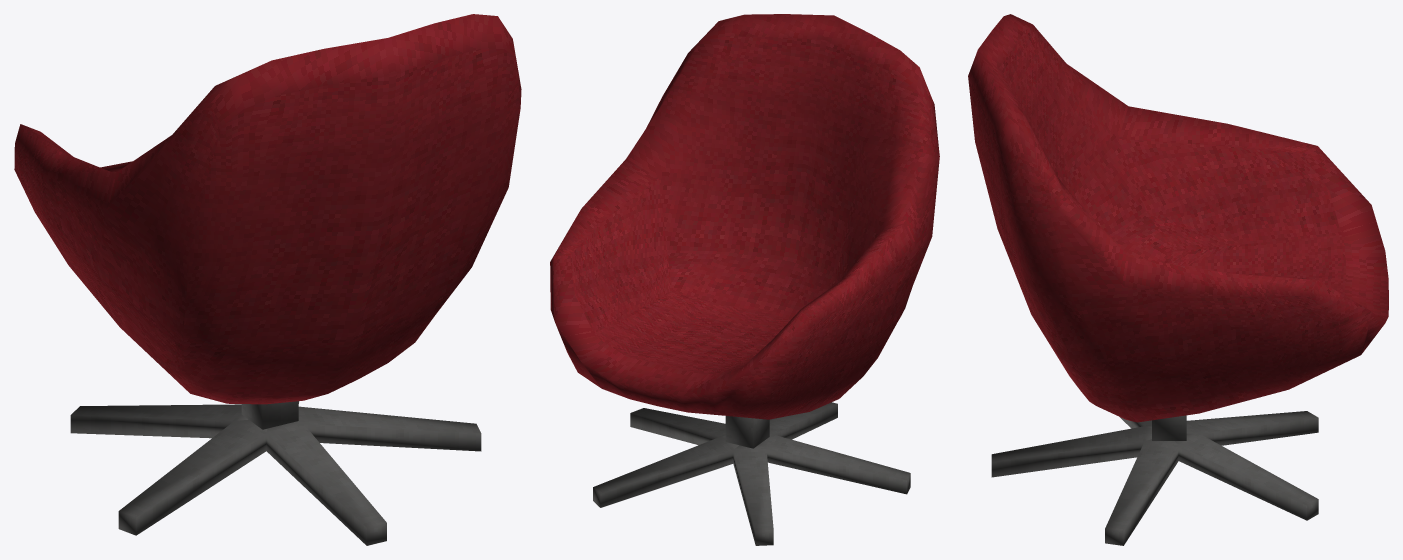
File: chair.glb
The picture shows the model from 3 angles, left to right: view 1: azimuth 30°, elevation 25°; view 2: azimuth 150°, elevation 25°; view 3: azimuth 270°, elevation 25°; orthographic projection. The views are drawn at different scales.
Parts seen in each view (by area): view 1: Chair-col; view 2: Chair-col; view 3: Chair-col.
Part boxes in pixels (box(x1,y1,x2,y2)): Chair-col: box(14, 14, 521, 545); Chair-col: box(550, 14, 939, 545); Chair-col: box(968, 14, 1388, 545).
Size of the model in its own units: 1.2 by 1.53 by 1.37.
2 materials, 2 textured.
